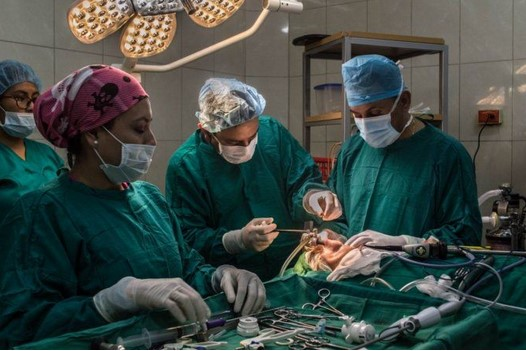face_with_mask: (41, 67, 157, 187), (341, 62, 413, 151), (197, 81, 265, 166), (3, 61, 42, 144)
